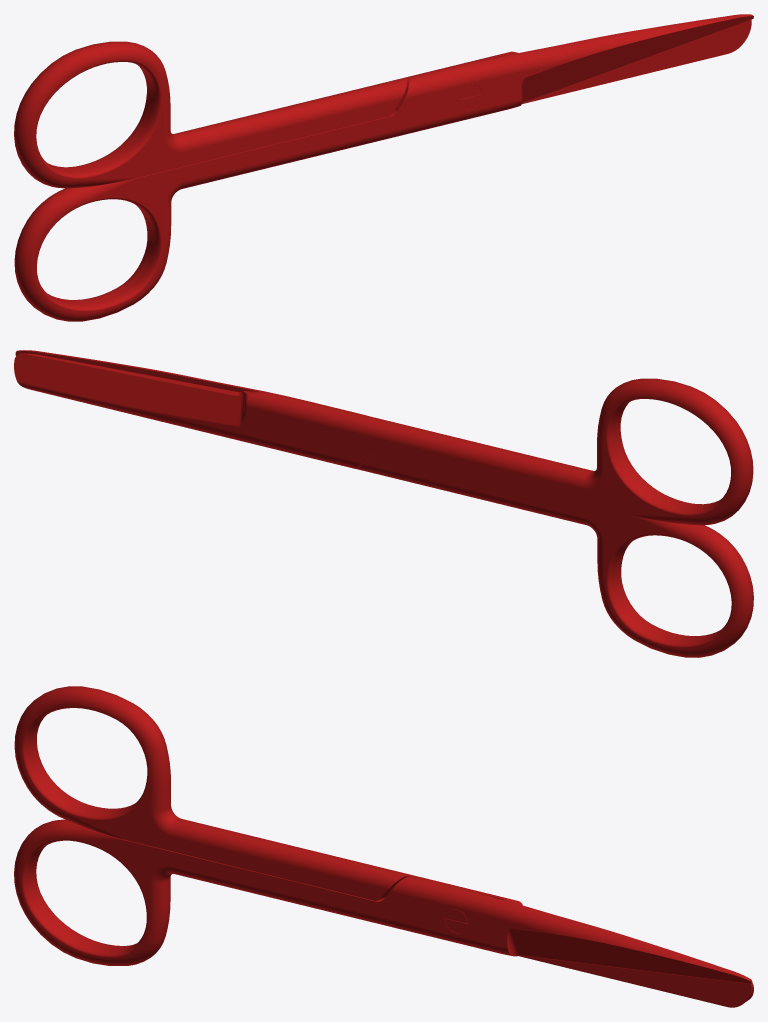
File: o_scissors_v3.obj
3 views of the same model, one above another, from view 1: azimuth 30°, elevation 25°; view 2: azimuth 150°, elevation 25°; view 3: azimuth 330°, elevation 25° (orthographic).
Parts seen in each view (by area): view 1: scissors_v2-1/scissor_part-1-solid1, scissors_v2-1/scissor_part-1-solid2; view 2: scissors_v2-1/scissor_part-1-solid2, scissors_v2-1/scissor_part-1-solid1; view 3: scissors_v2-1/scissor_part-1-solid1, scissors_v2-1/scissor_part-1-solid2.
Boxes of the visible parts, x1,y1,x2,y2 form: scissors_v2-1/scissor_part-1-solid1: (14,14,753,321); scissors_v2-1/scissor_part-1-solid2: (14,19,751,188); scissors_v2-1/scissor_part-1-solid2: (14,353,753,525); scissors_v2-1/scissor_part-1-solid1: (15,350,753,657); scissors_v2-1/scissor_part-1-solid1: (14,819,752,984); scissors_v2-1/scissor_part-1-solid2: (14,686,753,1007).
Bounding box in the file's own units: 0.1447 × 0.051 × 0.0048.
